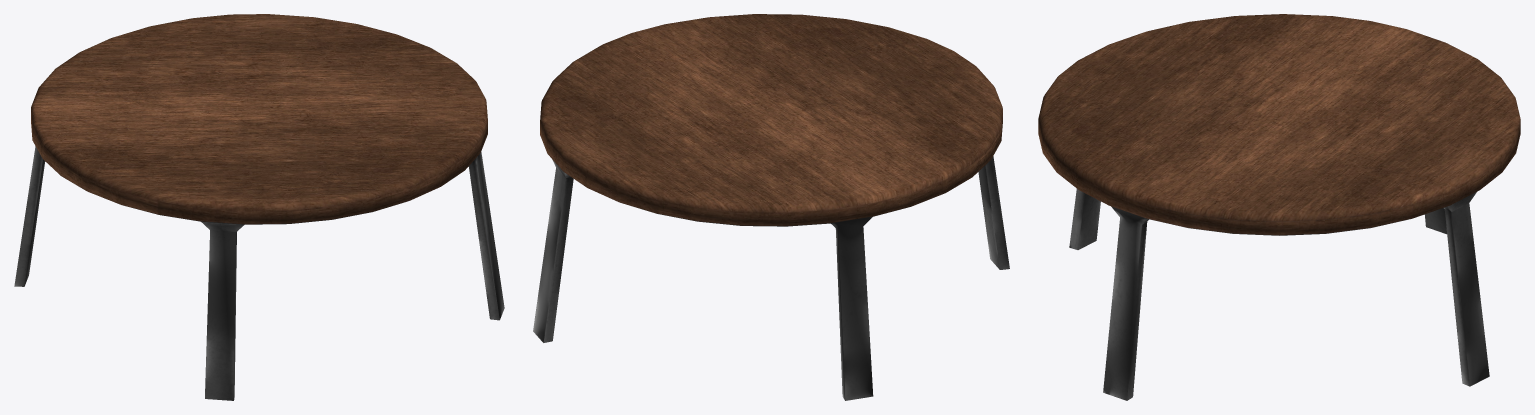
The model's file is coffee-table.fbx.
3 renders of one model, left to right at view 1: azimuth 30°, elevation 25°; view 2: azimuth 150°, elevation 25°; view 3: azimuth 270°, elevation 25°, orthographic. The views are drawn at different scales.
Parts seen in each view (by area): view 1: table top, legs; view 2: table top, legs; view 3: table top, legs.
Part boxes in pixels (x1=…): table top: x1=31, y1=14, x2=487, y2=224; legs: x1=14, y1=146, x2=504, y2=400; table top: x1=540, y1=14, x2=1002, y2=226; legs: x1=533, y1=156, x2=1009, y2=400; table top: x1=1038, y1=14, x2=1520, y2=235; legs: x1=1069, y1=188, x2=1489, y2=400.
Bounding box in the file's own units: 200 × 90.71 × 200.
Materials: 2 (2 with a texture image).
